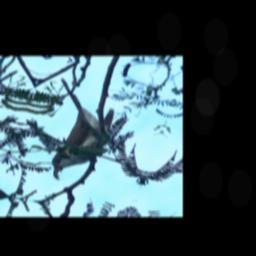Cuckoo: (22, 74, 135, 185)
